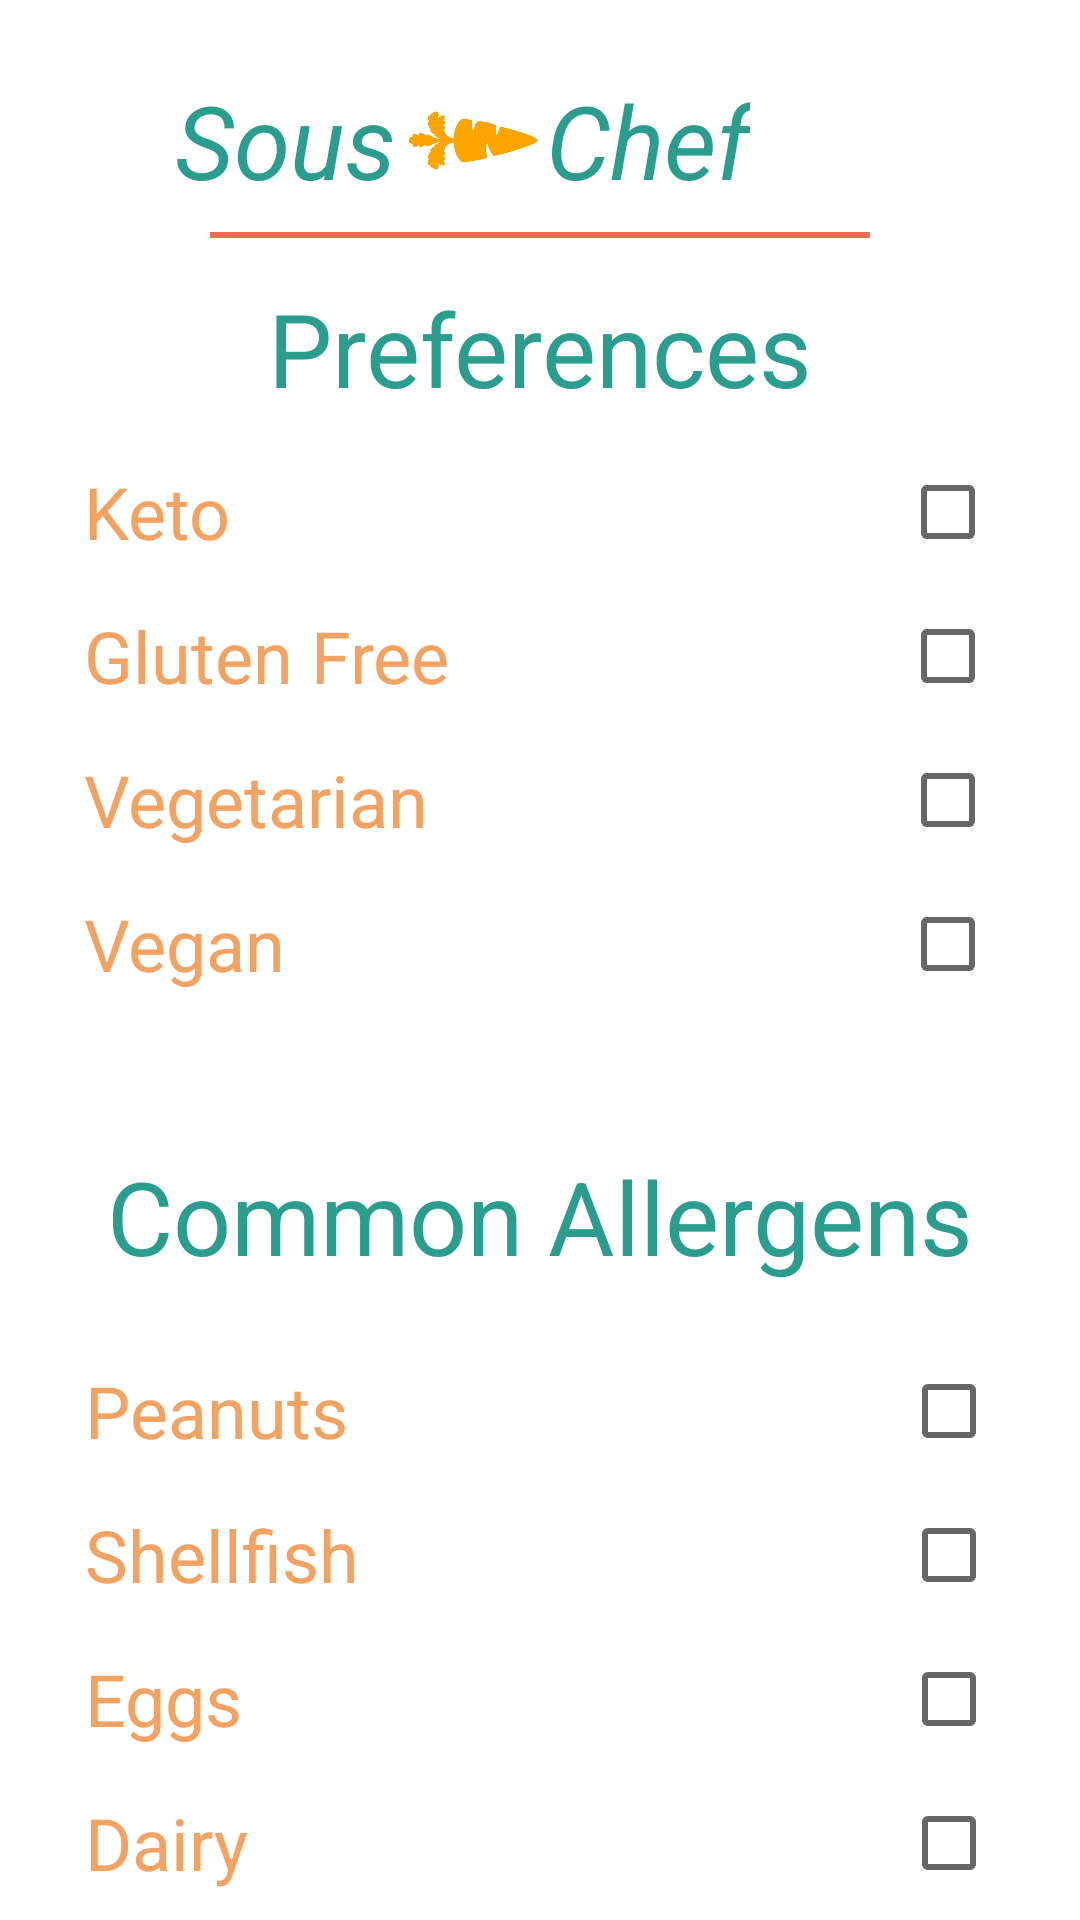

Icons on this 1080w x 1920h Android screen, each with its box as (x1=x1, y1=y1, x2=x2, y2=y2):
carrot: (x1=409, y1=111, x2=538, y2=170)
